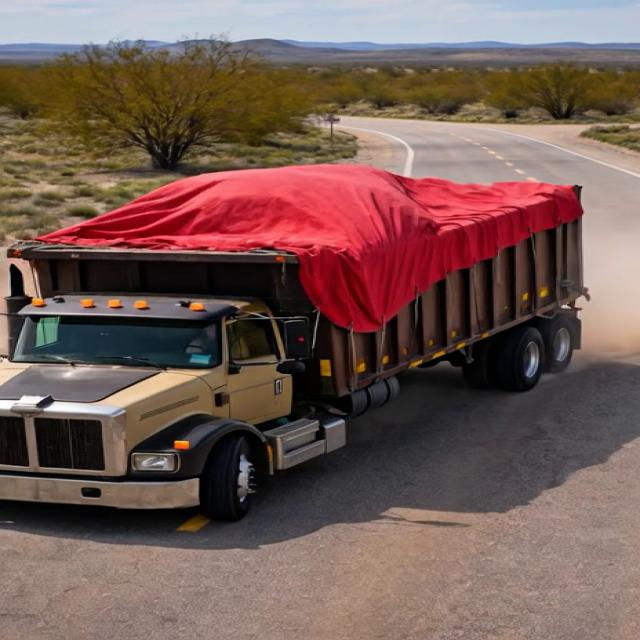trailer: (19, 165, 592, 268)
truck: (5, 146, 602, 526)
